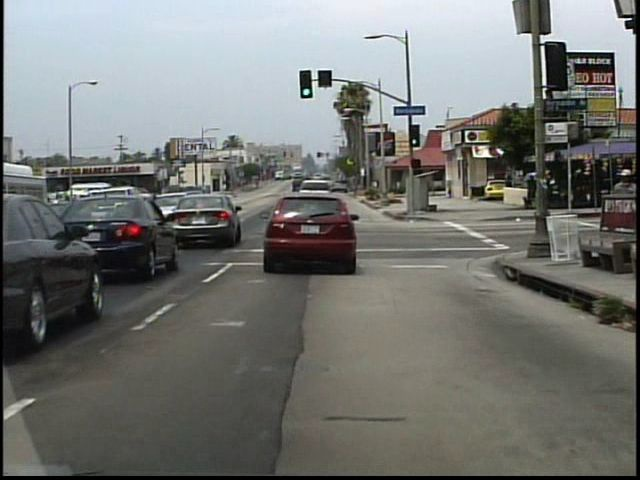person: (598, 165, 635, 256), (502, 173, 514, 206)
